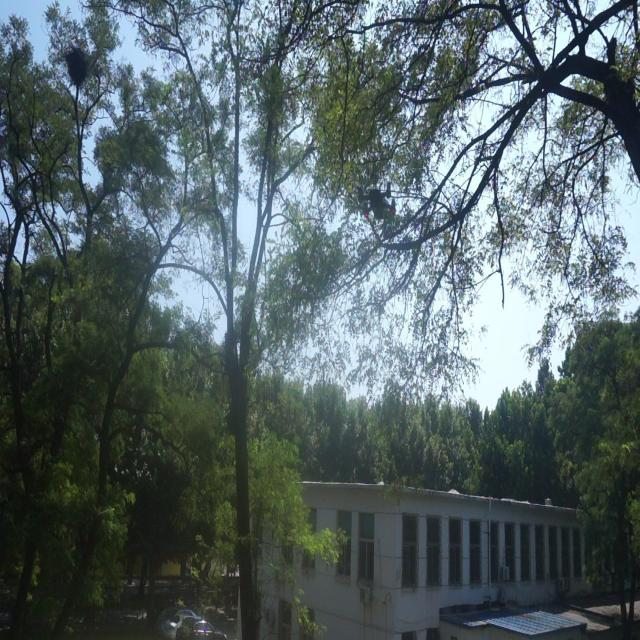drone: (356, 180, 398, 226)
